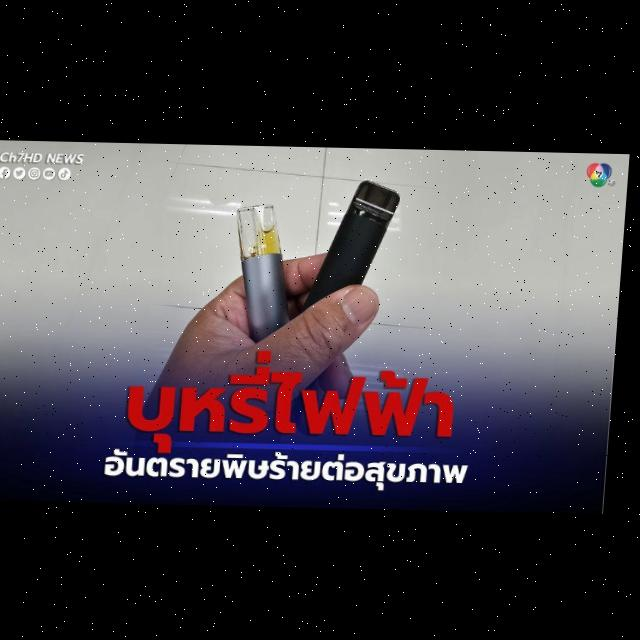vape: (299, 176, 405, 331), (241, 203, 295, 343)
